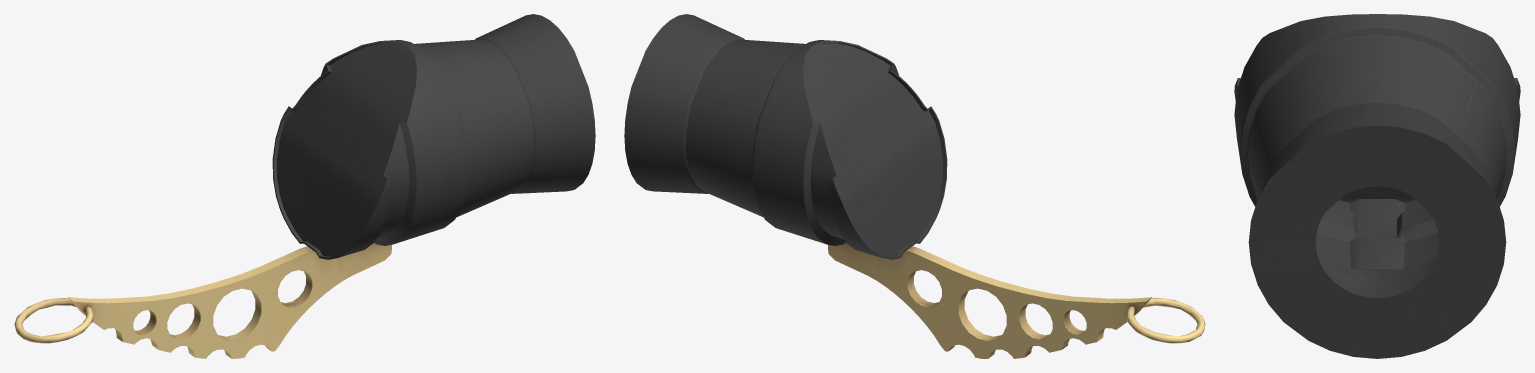
File: pommel_17_r_b.glb
The picture shows the model from 3 angles, left to right: view 1: azimuth 30°, elevation 25°; view 2: azimuth 150°, elevation 25°; view 3: azimuth 270°, elevation 25°; orthographic projection. The views are drawn at different scales.
Parts seen in each view (by area): view 1: pommel_17_r_b_lod0; view 2: pommel_17_r_b_lod0; view 3: pommel_17_r_b_lod0.
Boxes of the visible parts, x1,y1,x2,y2 form: pommel_17_r_b_lod0: (14, 14, 595, 358); pommel_17_r_b_lod0: (624, 14, 1205, 358); pommel_17_r_b_lod0: (1234, 14, 1520, 358).
Size of what is drawn, in the model's own units: 0.0989 by 0.0481 by 0.0326.
1 material, 1 textured.
